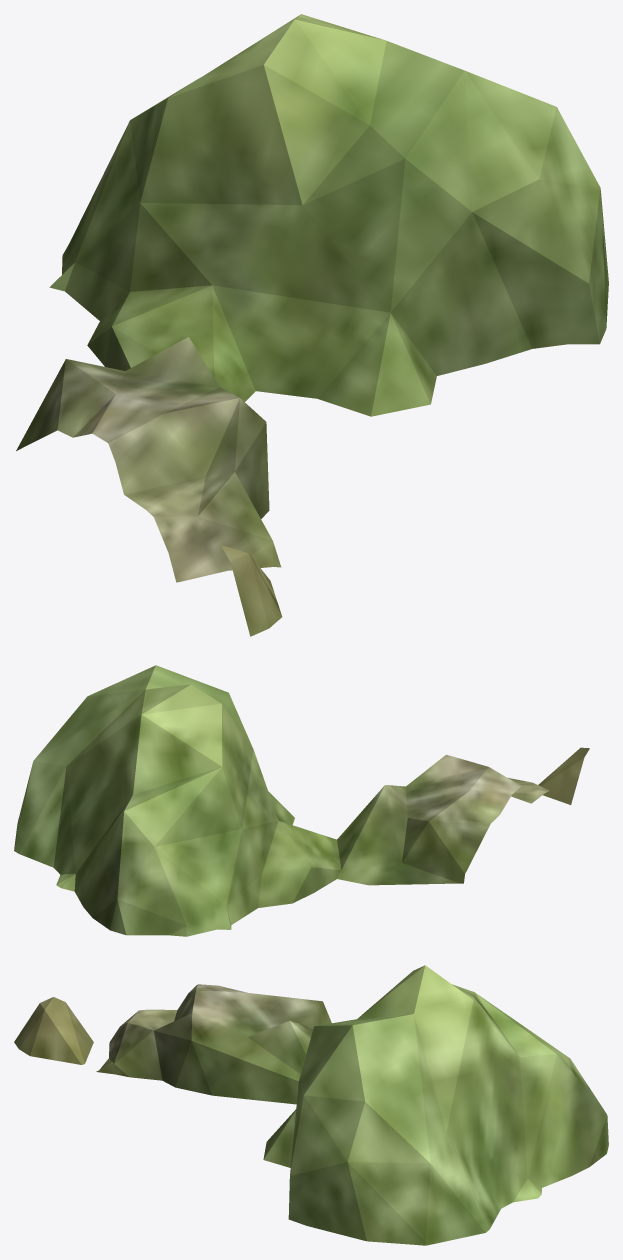
3 renders of one model, top to bottom at view 1: azimuth 30°, elevation 25°; view 2: azimuth 150°, elevation 25°; view 3: azimuth 270°, elevation 25°, orthographic. The views are drawn at different scales.
Size of the model in its own units: 3.19 by 1.4 by 3.94.
Materials: 1 (1 with a texture image).
